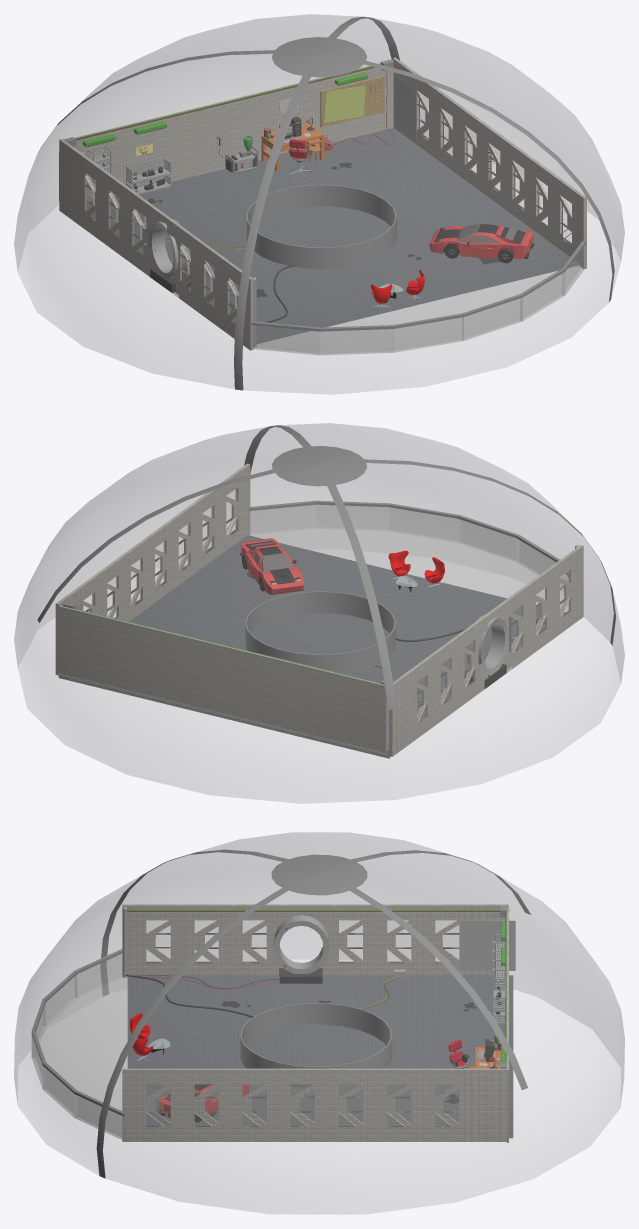
The model's file is final version garage.fbx.
3 renders of one model, top to bottom at view 1: azimuth 30°, elevation 25°; view 2: azimuth 150°, elevation 25°; view 3: azimuth 270°, elevation 25°, orthographic.
Parts seen in each view (by area): view 1: pSphere4, pCube43, Tableobjects, polySurface383, polySurface3, pTorus1, pPipe2, ferrari:polySurface29, pPipe3, pCube9, pCube5, pCube51 (+2 smaller); view 2: pSphere4, Tableobjects, pCube43, pTorus1, polySurface3, polySurface383, pPipe2, ferrari:polySurface29, pPipe3; view 3: pSphere4, pCube43, polySurface383, polySurface3, pTorus1, pPipe2, pCube52, pPipe3, ferrari:polySurface29, polySurface5, Tableobjects, polySurface437.
Part boxes in pixels (box(x1,y1,x2,y2)): pSphere4: box(14, 14, 624, 394); pCube43: box(87, 128, 580, 343); Tableobjects: box(74, 60, 393, 202); polySurface383: box(392, 57, 586, 268); polySurface3: box(59, 139, 253, 350); pTorus1: box(249, 241, 586, 355); pPipe2: box(246, 184, 396, 268); ferrari:polySurface29: box(429, 224, 534, 263); pPipe3: box(148, 219, 189, 279); pCube9: box(323, 85, 365, 122); pCube5: box(320, 76, 384, 127); pCube51: box(393, 74, 416, 139); pSphere4: box(14, 423, 624, 803); Tableobjects: box(58, 605, 390, 758); pCube43: box(56, 535, 564, 755); pTorus1: box(249, 500, 583, 612); polySurface3: box(389, 545, 583, 756); polySurface383: box(55, 463, 250, 675); pPipe2: box(245, 591, 395, 673); ferrari:polySurface29: box(240, 538, 303, 594); pPipe3: box(467, 614, 508, 675); pSphere4: box(14, 832, 624, 1213); pCube43: box(127, 975, 513, 1138); polySurface383: box(122, 1068, 508, 1141); polySurface3: box(122, 904, 508, 977); pTorus1: box(31, 949, 127, 1140); pPipe2: box(240, 1003, 392, 1087); pCube52: box(460, 921, 505, 970); pPipe3: box(273, 915, 329, 973); ferrari:polySurface29: box(157, 1084, 249, 1122); polySurface5: box(127, 909, 509, 910); Tableobjects: box(479, 907, 508, 1142); polySurface437: box(279, 968, 322, 983).
Size of the model in its own units: 37.9 by 14.66 by 37.9.
